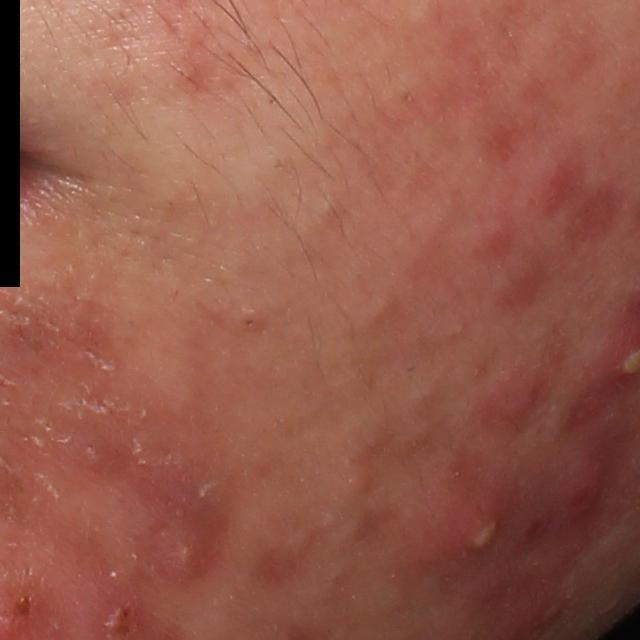comedo: (310, 191, 350, 232), (367, 289, 391, 320)
papule: (133, 439, 238, 599), (534, 440, 625, 553), (473, 362, 549, 460), (517, 131, 587, 223), (253, 514, 314, 583), (464, 204, 520, 274), (482, 251, 540, 318), (55, 417, 113, 480)
pustule: (438, 485, 515, 581)
